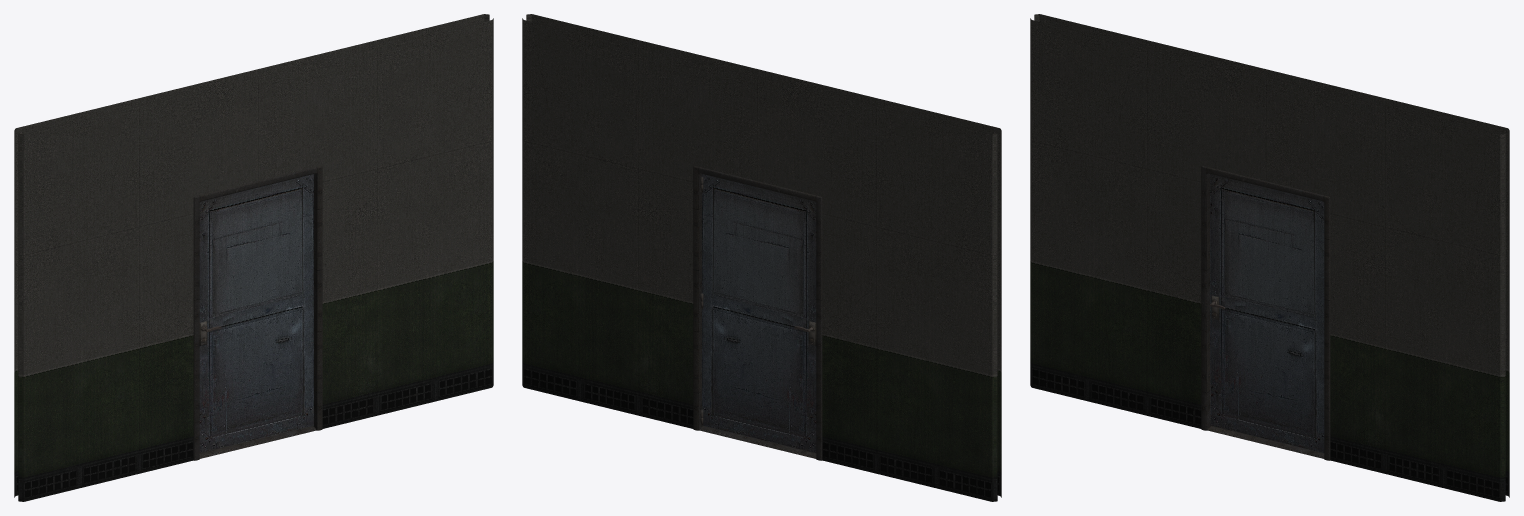
The model's file is doorway_2_plain.glb.
3 views of the same model, side by side, from view 1: azimuth 30°, elevation 25°; view 2: azimuth 150°, elevation 25°; view 3: azimuth 330°, elevation 25° (orthographic).
Parts seen in each view (by area): view 1: doorway_2_plain, door_7; view 2: doorway_2_plain, door_7; view 3: doorway_2_plain, door_7.
Boxes of the visible parts, x1,y1,x2,y2 form: doorway_2_plain: (14, 14, 493, 501); door_7: (199, 174, 313, 453); doorway_2_plain: (522, 14, 1001, 501); door_7: (700, 174, 816, 453); doorway_2_plain: (1030, 14, 1509, 501); door_7: (1210, 174, 1324, 453).
Bounding box in the file's own units: 4.06 × 3 × 0.194.
Materials: 6 (6 with a texture image).
